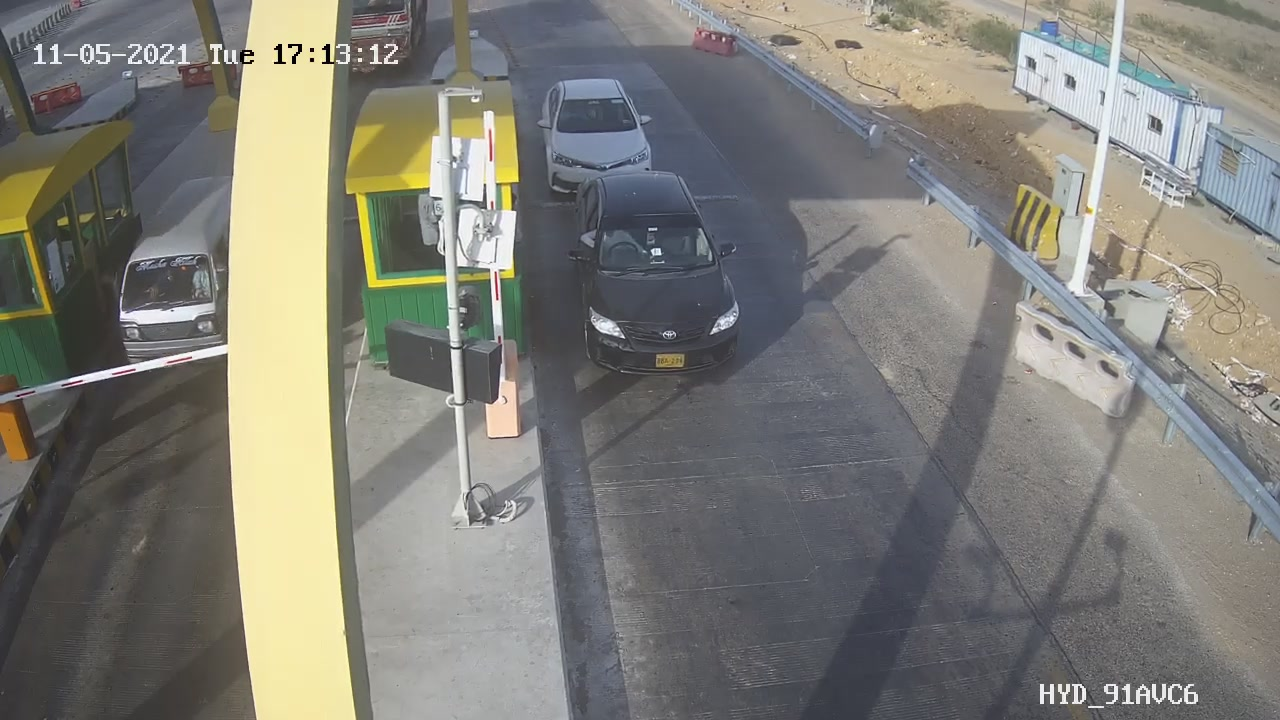F1: (552, 161, 763, 400), (524, 64, 673, 217)
